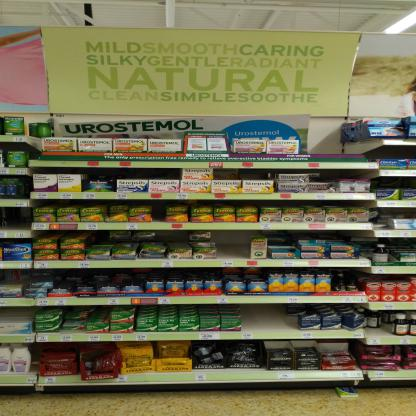Void: (242, 306, 298, 330), (303, 140, 364, 156), (95, 168, 176, 180), (216, 230, 248, 260), (316, 168, 365, 180), (218, 170, 270, 180), (4, 206, 26, 229), (0, 308, 32, 322), (380, 147, 411, 158), (6, 270, 28, 284), (385, 208, 414, 218), (380, 178, 411, 187), (369, 327, 391, 337)
